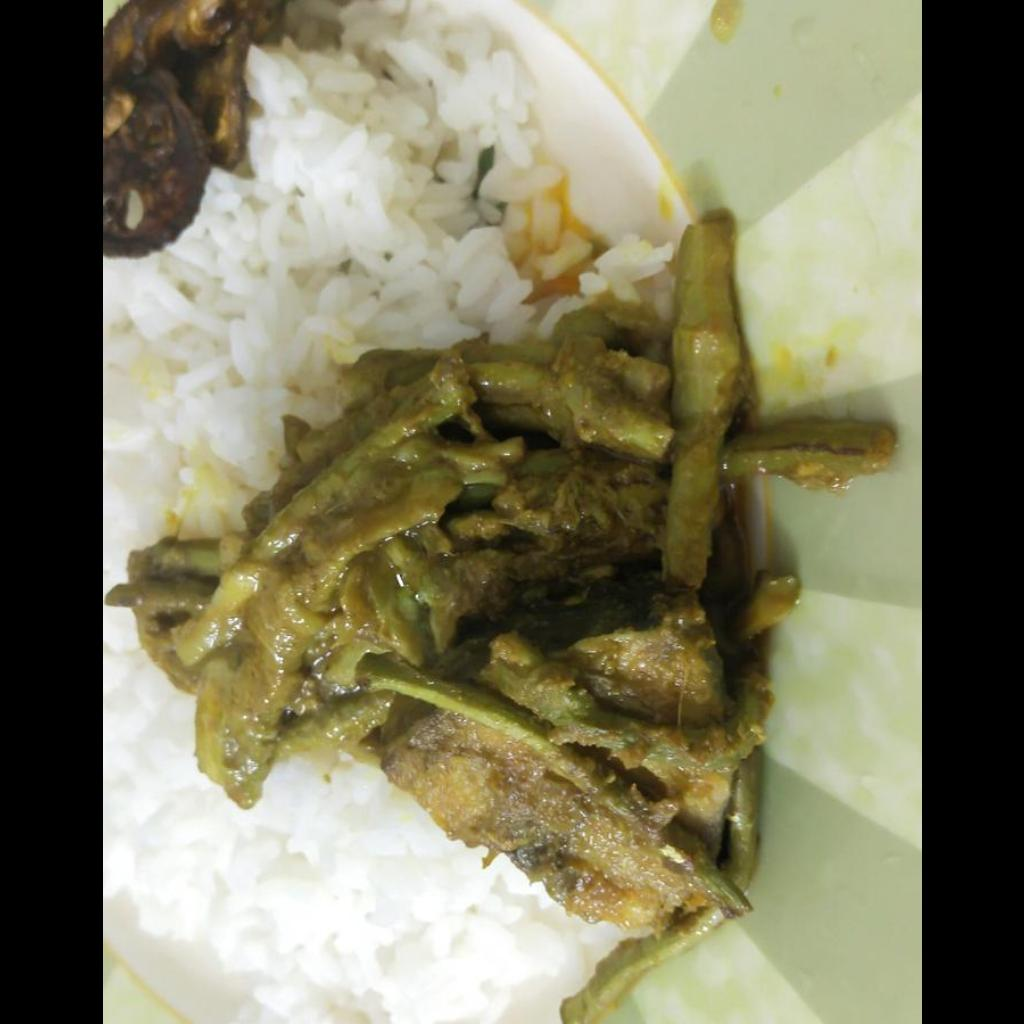begun-vaji: (102, 0, 287, 257)
fish: (102, 218, 895, 1022)
rice: (107, 5, 557, 546)
